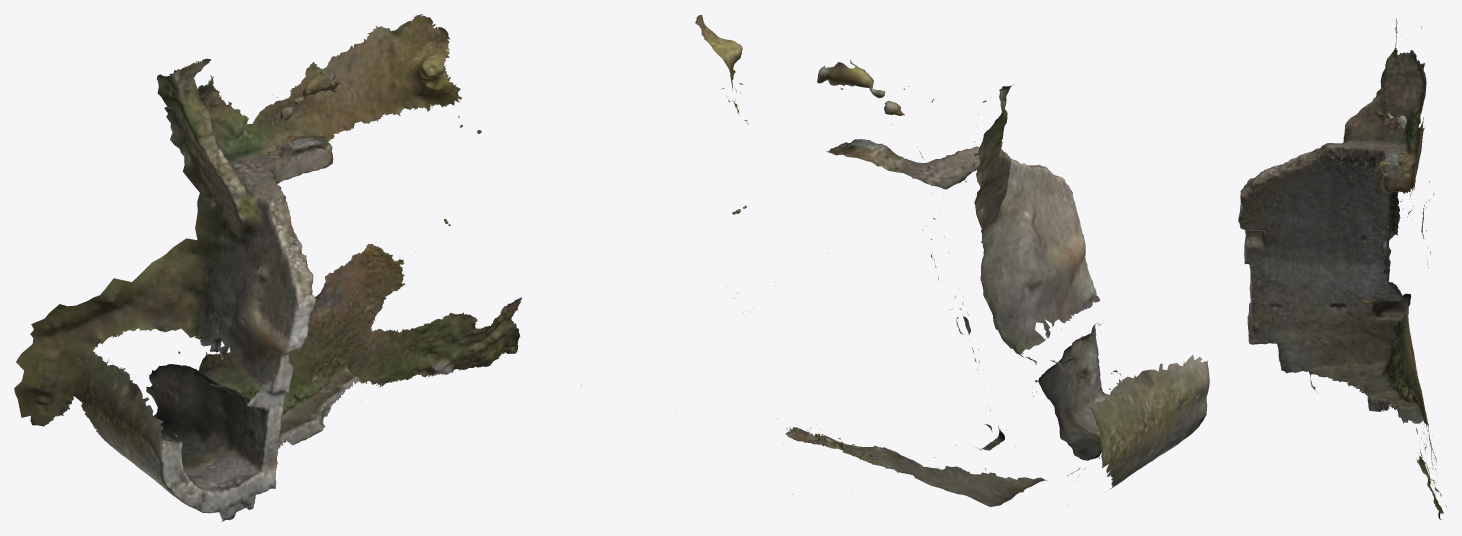
3 views of the same model, side by side, from view 1: azimuth 30°, elevation 25°; view 2: azimuth 150°, elevation 25°; view 3: azimuth 270°, elevation 25° (orthographic). The views are drawn at different scales.
Bounding box in the file's own units: 24.23 × 19.49 × 9.81.
1 material, 1 textured.
